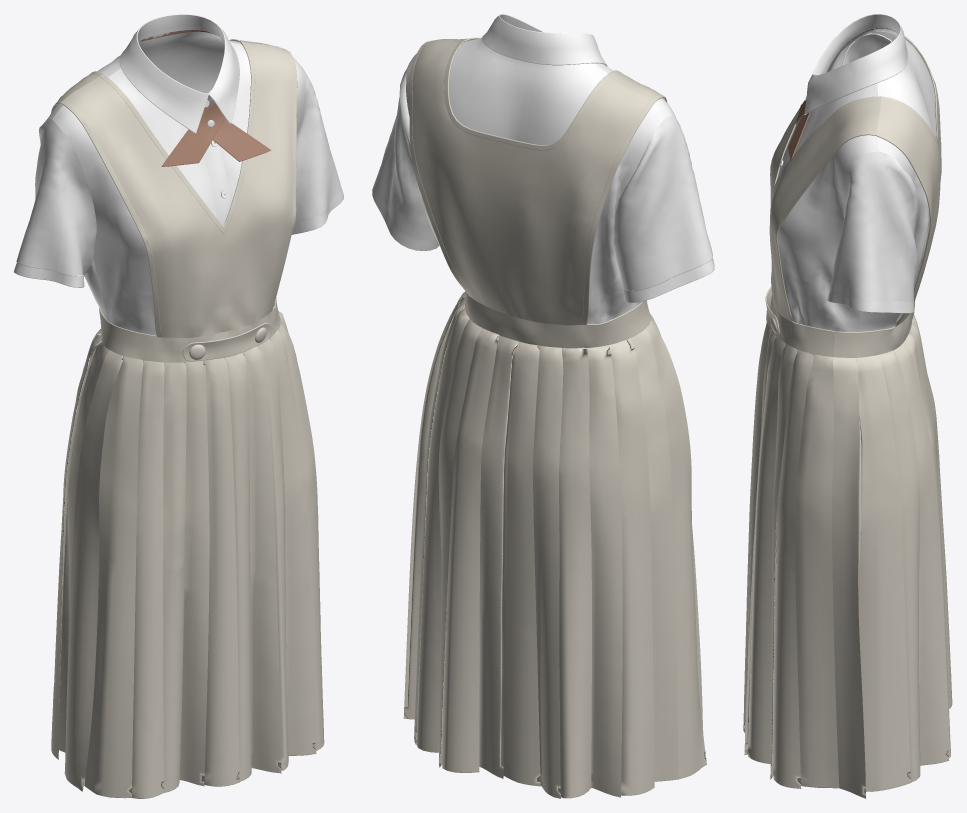
File: jk_school_uniform_2.glb
The picture shows the model from 3 angles, left to right: view 1: azimuth 30°, elevation 25°; view 2: azimuth 150°, elevation 25°; view 3: azimuth 270°, elevation 25°; orthographic projection. The views are drawn at different scales.
Parts seen in each view (by area): view 1: Object_4, Object_8, Object_7, Object_3, Object_9, Object_6, Object_5; view 2: Object_6, Object_8, Object_9, Object_3, Object_4, Object_5, Object_7; view 3: Object_6, Object_4, Object_3, Object_8, Object_7, Object_9, Object_5.
Part boxes in pixels (x1=…): Object_4: x1=64, y1=312, x2=324, y2=798; Object_8: x1=51, y1=40, x2=293, y2=361; Object_7: x1=52, y1=14, x2=297, y2=337; Object_3: x1=16, y1=39, x2=341, y2=307; Object_9: x1=14, y1=30, x2=343, y2=320; Object_6: x1=51, y1=311, x2=281, y2=759; Object_5: x1=99, y1=297, x2=280, y2=362; Object_6: x1=403, y1=292, x2=678, y2=798; Object_8: x1=409, y1=38, x2=660, y2=325; Object_9: x1=372, y1=38, x2=714, y2=324; Object_3: x1=375, y1=39, x2=712, y2=291; Object_4: x1=645, y1=314, x2=706, y2=779; Object_5: x1=465, y1=291, x2=651, y2=348; Object_7: x1=422, y1=14, x2=675, y2=309; Object_6: x1=832, y1=315, x2=952, y2=798; Object_4: x1=743, y1=322, x2=839, y2=788; Object_3: x1=777, y1=33, x2=937, y2=331; Object_8: x1=765, y1=36, x2=941, y2=337; Object_7: x1=772, y1=14, x2=907, y2=321; Object_9: x1=779, y1=28, x2=936, y2=331; Object_5: x1=770, y1=295, x2=914, y2=357.
Bounding box in the file's own units: 488 × 1018 × 272.
4 materials, 1 textured.
